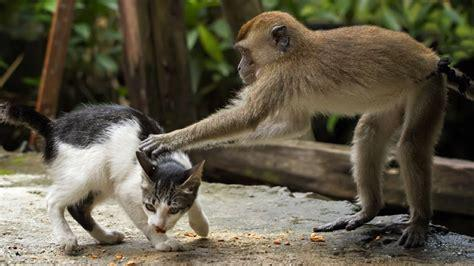cat: (1, 100, 208, 251)
monkey: (138, 11, 451, 247)
